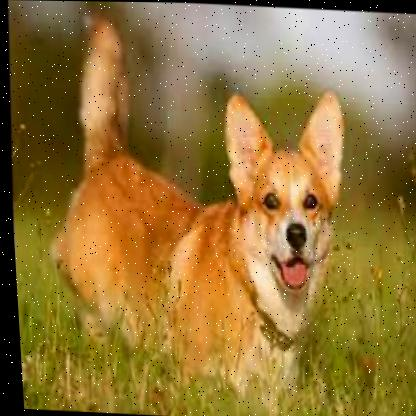dog: (31, 8, 365, 407)
